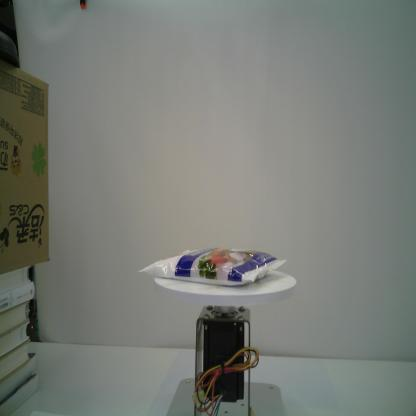Seasoner: (138, 245, 288, 290)
